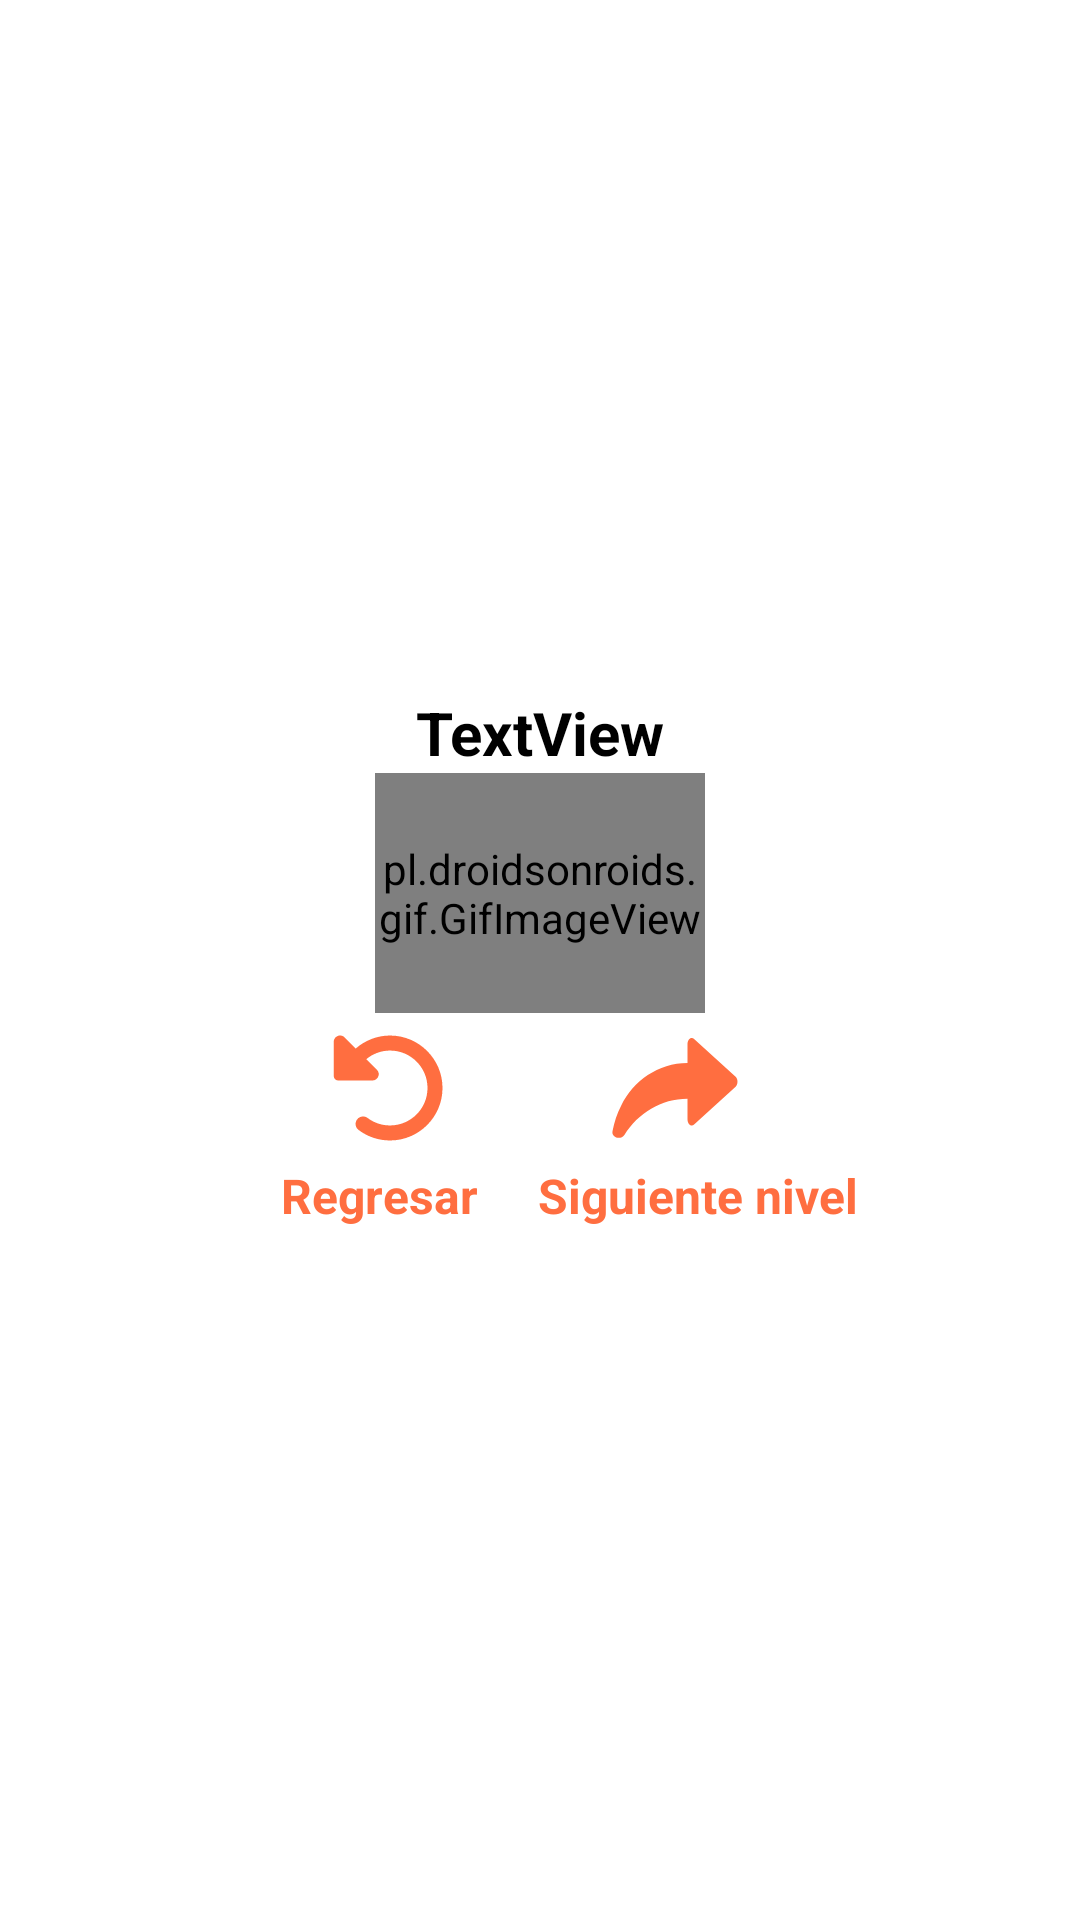

Where icons sit on this 1080*1920 app screen, as [x1=x1, y1=y1, x2=x2, y2=y2]:
arrowsvg: [x1=612, y1=1038, x2=738, y2=1138]
